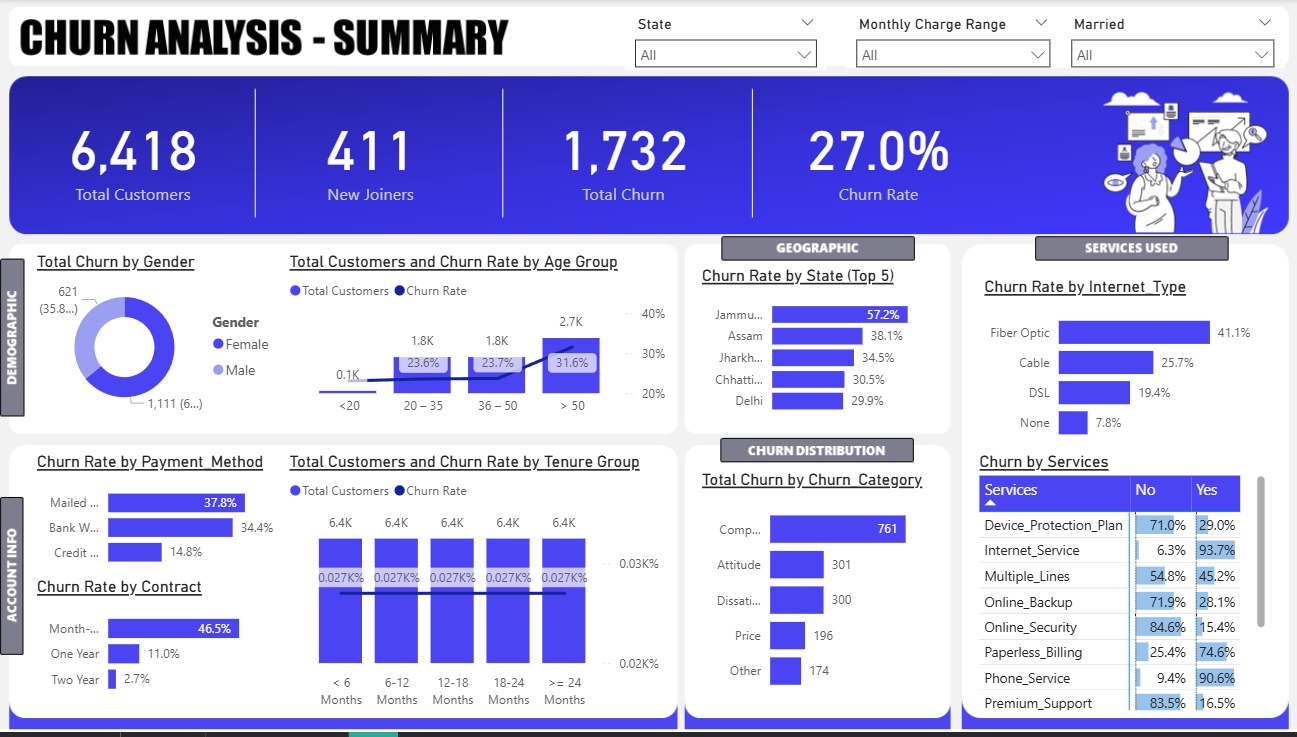

Layout of this report page (visuals, bound fields, positions):
{"tool":"powerbi","page":{"name":"Summary","canvas":[1280,720],"ordinal":0},"visuals":[{"type":"card","fields":{"Values":["tbl_Measures.Total Customers"]},"box":[18.4,77.3,230.7,150.9],"z":0},{"type":"card","fields":{"Values":["tbl_Measures.New Joiners"]},"box":[249.1,77.3,235.6,150.9],"z":1000},{"type":"card","fields":{"Values":["tbl_Measures.Total Churn"]},"box":[500.6,78.5,231.9,150.9],"z":2000},{"type":"card","fields":{"Values":["tbl_Measures.Churn Rate"]},"box":[746,77.3,239.3,150.9],"z":3000},{"type":"donutChart","fields":{"Y":["tbl_Measures.Total Churn"],"Category":["prod_Churn.Gender"]},"box":[34.4,249.1,247.9,168.1],"z":4000},{"type":"lineStackedColumnComboChart","fields":{"Category":["mapping_AgeGrp.Age Group"],"Y":["tbl_Measures.Total Customers"],"Y2":["tbl_Measures.Churn Rate"]},"box":[282.2,249.1,379.1,168.1],"z":5000},{"type":"clusteredBarChart","fields":{"Y":["tbl_Measures.Churn Rate"],"Category":["prod_Churn.Payment_Method"]},"box":[32.9,441.9,248.4,138.6],"z":6000},{"type":"clusteredBarChart","fields":{"Y":["tbl_Measures.Churn Rate"],"Category":["prod_Churn.Contract"]},"box":[32.9,577.7,248.4,124.9],"z":7000},{"type":"lineClusteredColumnComboChart","fields":{"Category":["mapping_TenureGrp.Tenure Group"],"Y":["tbl_Measures.Total Customers"],"Y2":["tbl_Measures.Churn Rate"]},"box":[286.8,444.6,371.9,256.6],"z":8000},{"type":"clusteredBarChart","title":"Churn Rate by State (Top 5)","fields":{"Category":["prod_Churn.State"],"Y":["tbl_Measures.Churn Rate"]},"box":[687.1,262.6,245.4,154.6],"z":9000},{"type":"clusteredBarChart","fields":{"Category":["prod_Churn.Churn_Category"],"Y":["tbl_Measures.Total Churn"]},"box":[687.1,462.6,234.4,230.7],"z":10000},{"type":"clusteredBarChart","fields":{"Category":["prod_Churn.Internet_Type"],"Y":["tbl_Measures.Churn Rate"]},"box":[967.4,264.8,275.8,172.9],"z":11000},{"type":"pivotTable","title":"Churn by Services","fields":{"Rows":["prod_Services.Services"],"Columns":["prod_Services.Status"],"Values":["Sum(prod_Services.Churn Status)"]},"box":[959.5,445.4,290.8,257.7],"z":12000},{"type":"slicer","fields":{"Values":["prod_Services.Monthly Charge Status"]},"box":[833.1,11,211,56.4],"z":13000},{"type":"slicer","fields":{"Values":["prod_Services.Married"]},"box":[1044.2,11,219.6,56.4],"z":14000},{"type":"slicer","fields":{"Values":["prod_Churn.State"]},"box":[616,11,198.8,58.9],"z":15000}]}

Visuals, with their boxes in screenshot pixels (x1, y1, x2, y2), scaled from the page's 1280x720 canvas onto the 1297x737 screenshot:
card - tbl_Measures.Total Customers: locate(19, 79, 252, 234)
card - tbl_Measures.New Joiners: locate(252, 79, 491, 234)
card - tbl_Measures.Total Churn: locate(507, 80, 742, 235)
card - tbl_Measures.Churn Rate: locate(756, 79, 998, 234)
donutChart - tbl_Measures.Total Churn x prod_Churn.Gender: locate(35, 255, 286, 427)
lineStackedColumnComboChart - mapping_AgeGrp.Age Group x tbl_Measures.Total Customers: locate(286, 255, 670, 427)
clusteredBarChart - tbl_Measures.Churn Rate x prod_Churn.Payment_Method: locate(33, 452, 285, 594)
clusteredBarChart - tbl_Measures.Churn Rate x prod_Churn.Contract: locate(33, 591, 285, 719)
lineClusteredColumnComboChart - mapping_TenureGrp.Tenure Group x tbl_Measures.Total Customers: locate(291, 455, 667, 718)
"Churn Rate by State (Top 5)" clusteredBarChart: locate(696, 269, 945, 427)
clusteredBarChart - prod_Churn.Churn_Category x tbl_Measures.Total Churn: locate(696, 474, 934, 710)
clusteredBarChart - prod_Churn.Internet_Type x tbl_Measures.Churn Rate: locate(980, 271, 1260, 448)
"Churn by Services" pivotTable: locate(972, 456, 1267, 720)
slicer - prod_Services.Monthly Charge Status: locate(844, 11, 1058, 69)
slicer - prod_Services.Married: locate(1058, 11, 1281, 69)
slicer - prod_Churn.State: locate(624, 11, 826, 72)
